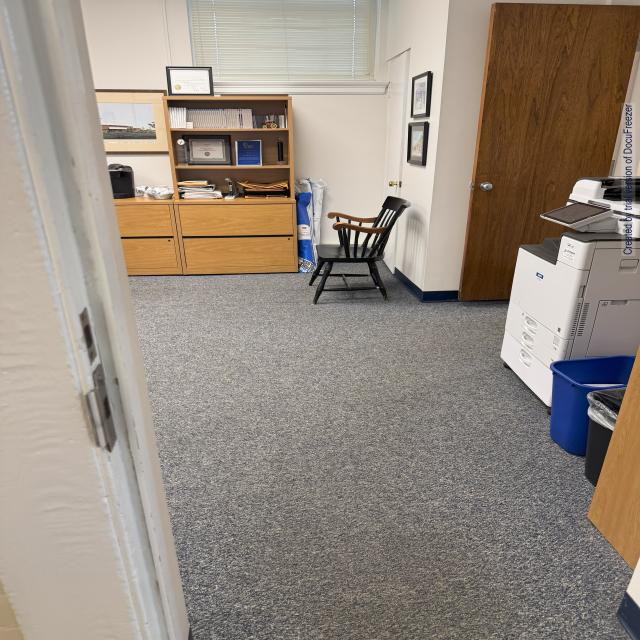chair: (304, 184, 409, 308)
